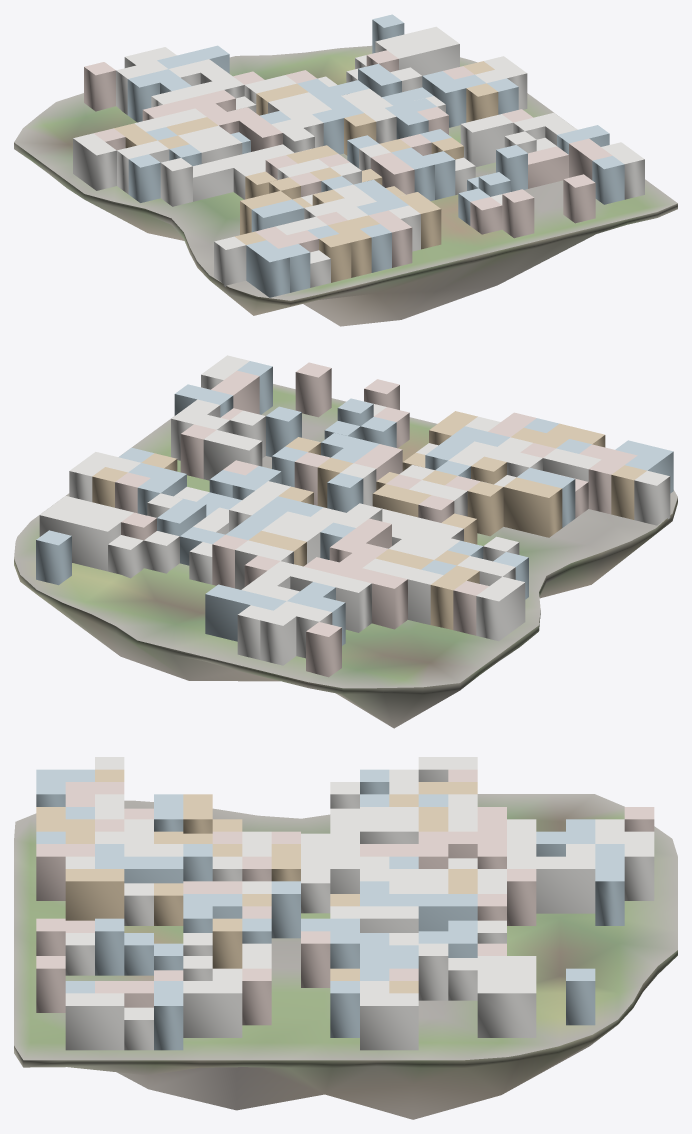
File: SKY-080.lod1.glb
3 renders of one model, top to bottom at view 1: azimuth 30°, elevation 25°; view 2: azimuth 150°, elevation 25°; view 3: azimuth 270°, elevation 25°, orthographic. The views are drawn at different scales.
Parts seen in each view (by area): view 1: warren_hull, deck, rock; view 2: warren_hull, deck, rock; view 3: warren_hull, deck, rock.
Part boxes in pixels (x1,y1,x2,y2): warren_hull: [73, 14, 644, 297]; deck: [14, 45, 677, 300]; rock: [14, 142, 677, 326]; warren_hull: [36, 355, 673, 677]; deck: [14, 384, 677, 688]; rock: [14, 498, 677, 728]; warren_hull: [36, 757, 654, 1050]; deck: [14, 794, 677, 1060]; rock: [14, 950, 677, 1119].
Bounding box in the file's own units: 128 × 47.26 × 135.
